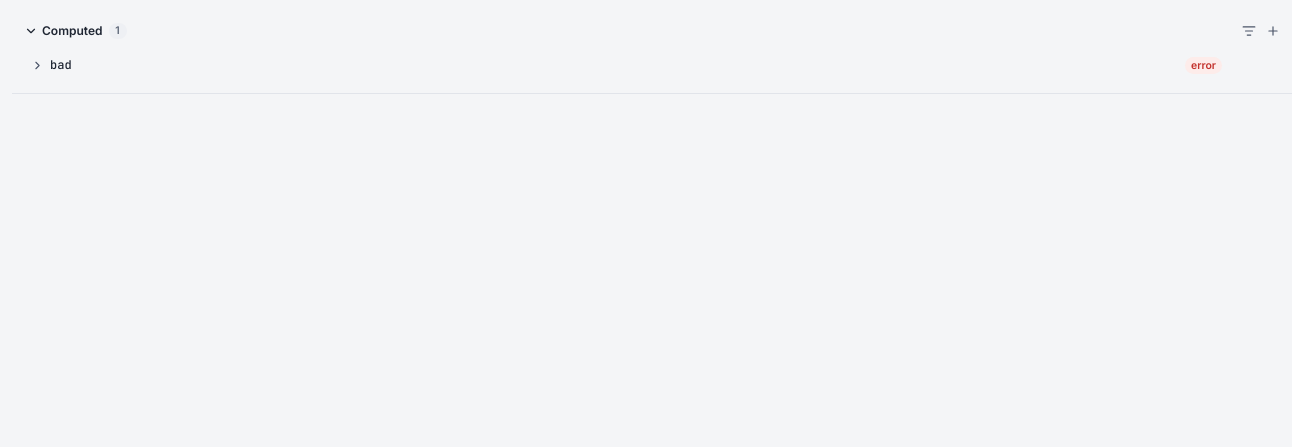
Scenario: ComputedSection › shows evaluation errors
Expected: the text "error" is shown, x1=1185 y1=57 x2=1222 y2=74
Click the button "bad error" at (1204, 65), box x1=25 y1=50 x2=1228 y2=80
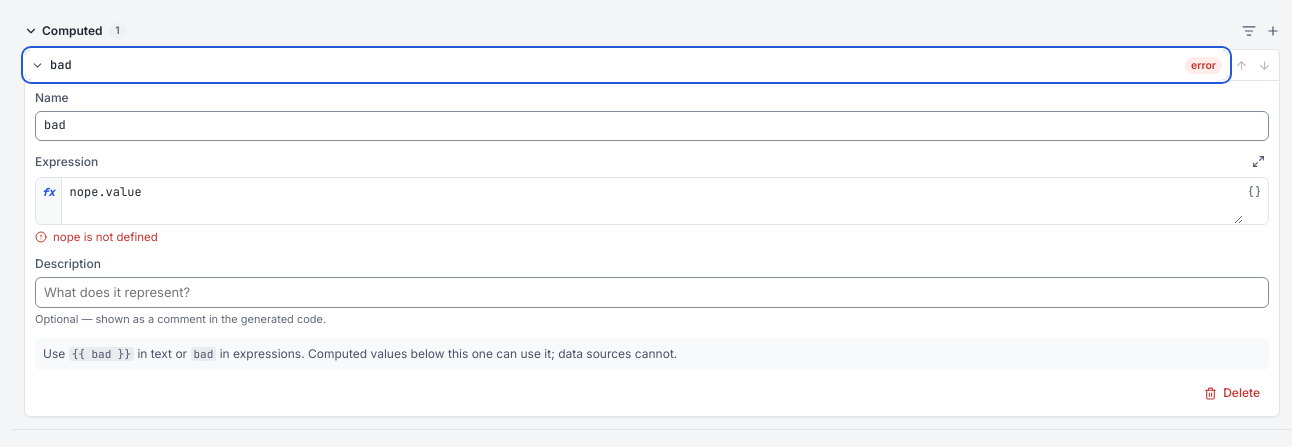
Result: the text "nope is not defined" is shown at x1=35 y1=230 x2=158 y2=244
